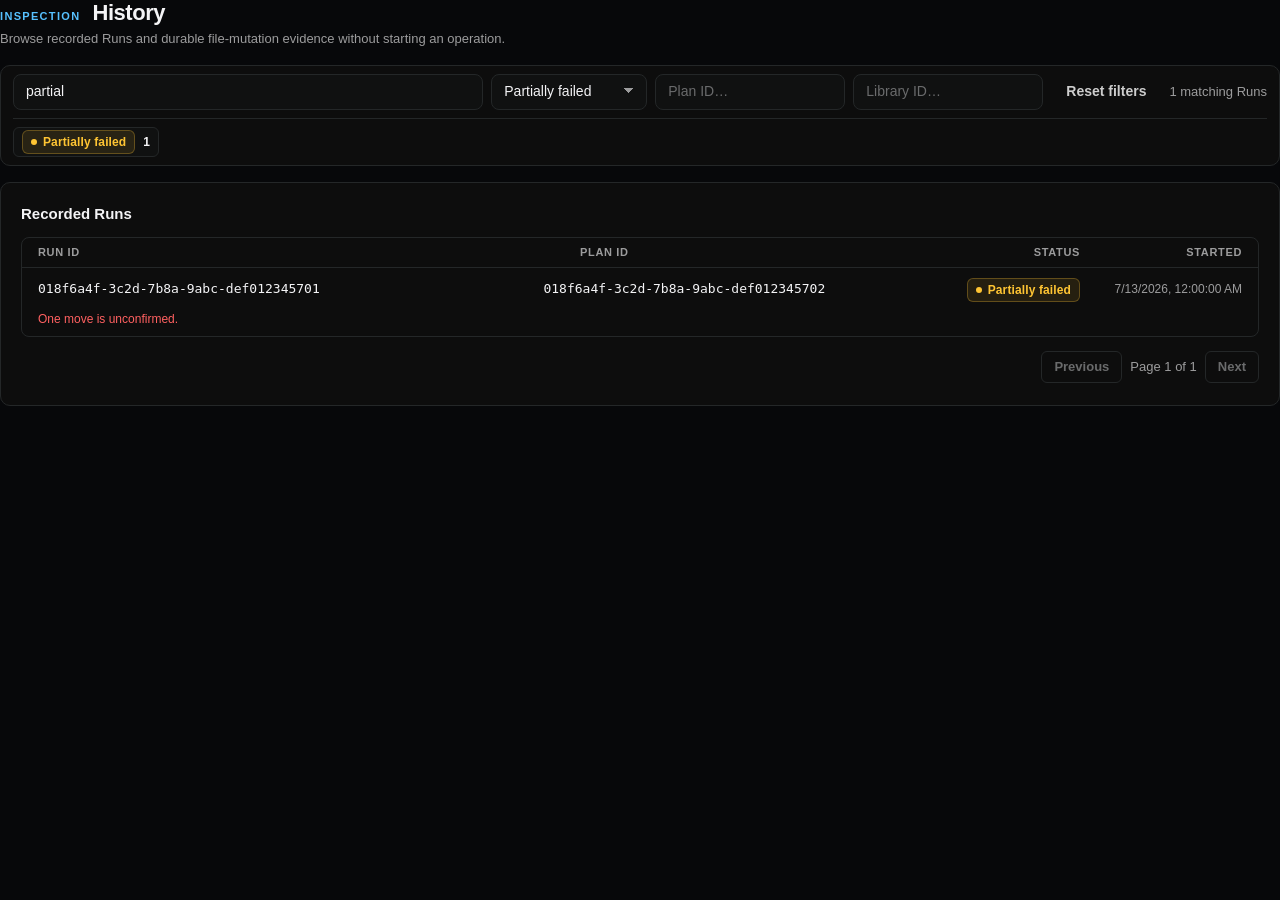
Run detail inspection › round-trips History list URL state through detail and Back
Click the link "018f6a4f-3c2d-7b8a-9abc-def012345701".
click(179, 289)  # box [22, 268, 1258, 336]
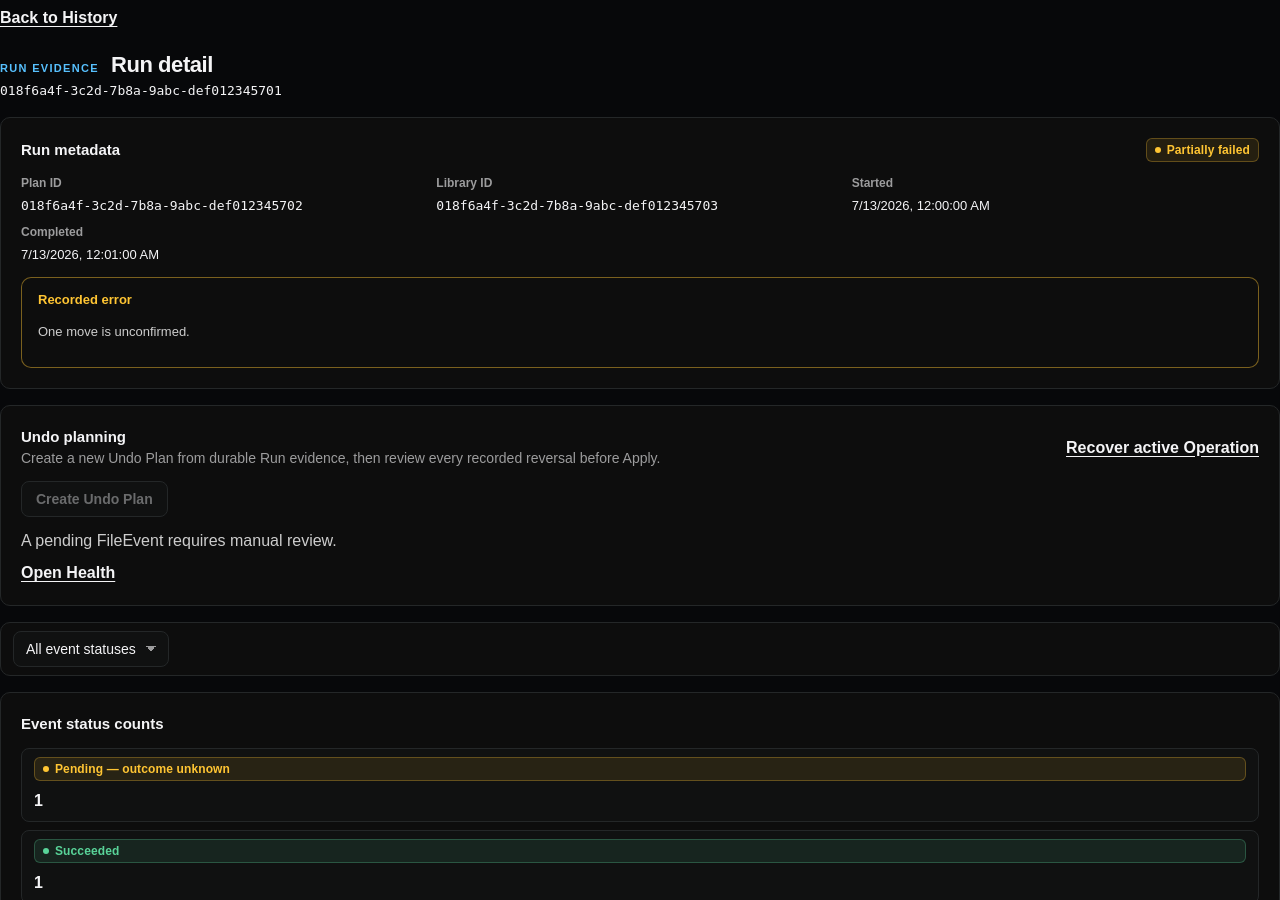
Click the link "Back to History".
click(59, 18)  # box [0, 9, 117, 26]
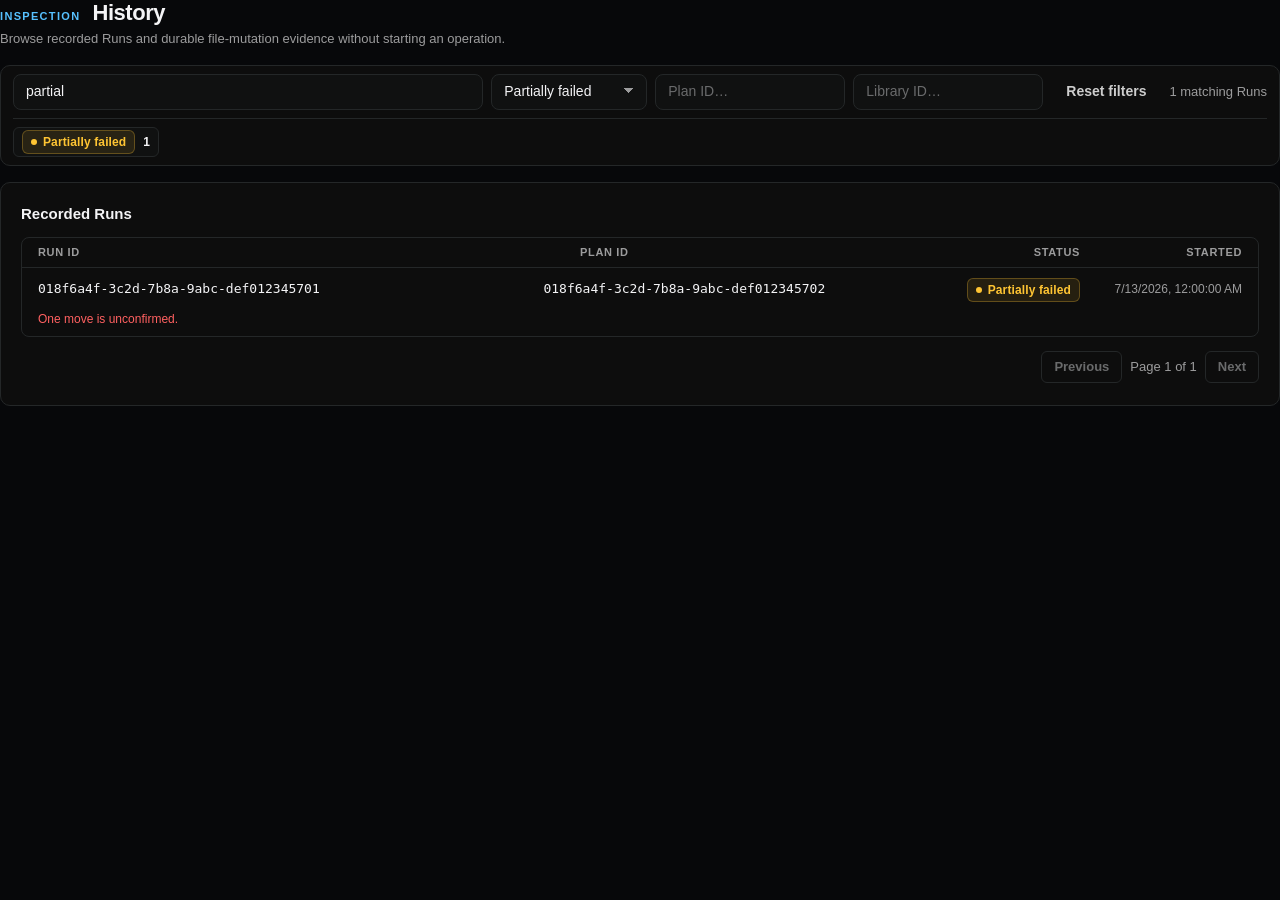
Now the heading "History" is shown, box [92, 0, 165, 25]
Now the search field named "Search Runs" holds "partial", box [13, 74, 483, 110]
Now the dropdown named "Run status" shows "Partially failed", box [491, 74, 647, 110]
